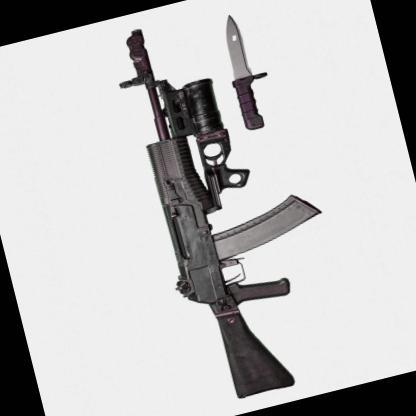rifle: (100, 7, 357, 415)
